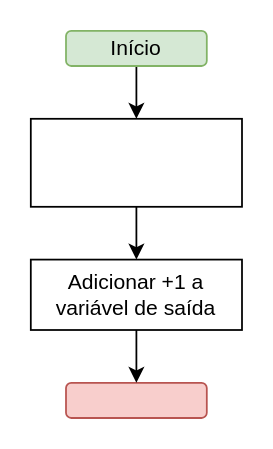
This 273x449 diagram has some shape labels left out. Each missing label, with the centre of its shape:
"Colocar o valor recebido na variável de saída" goes at point 135,162.
"Final" goes at point 135,399.
